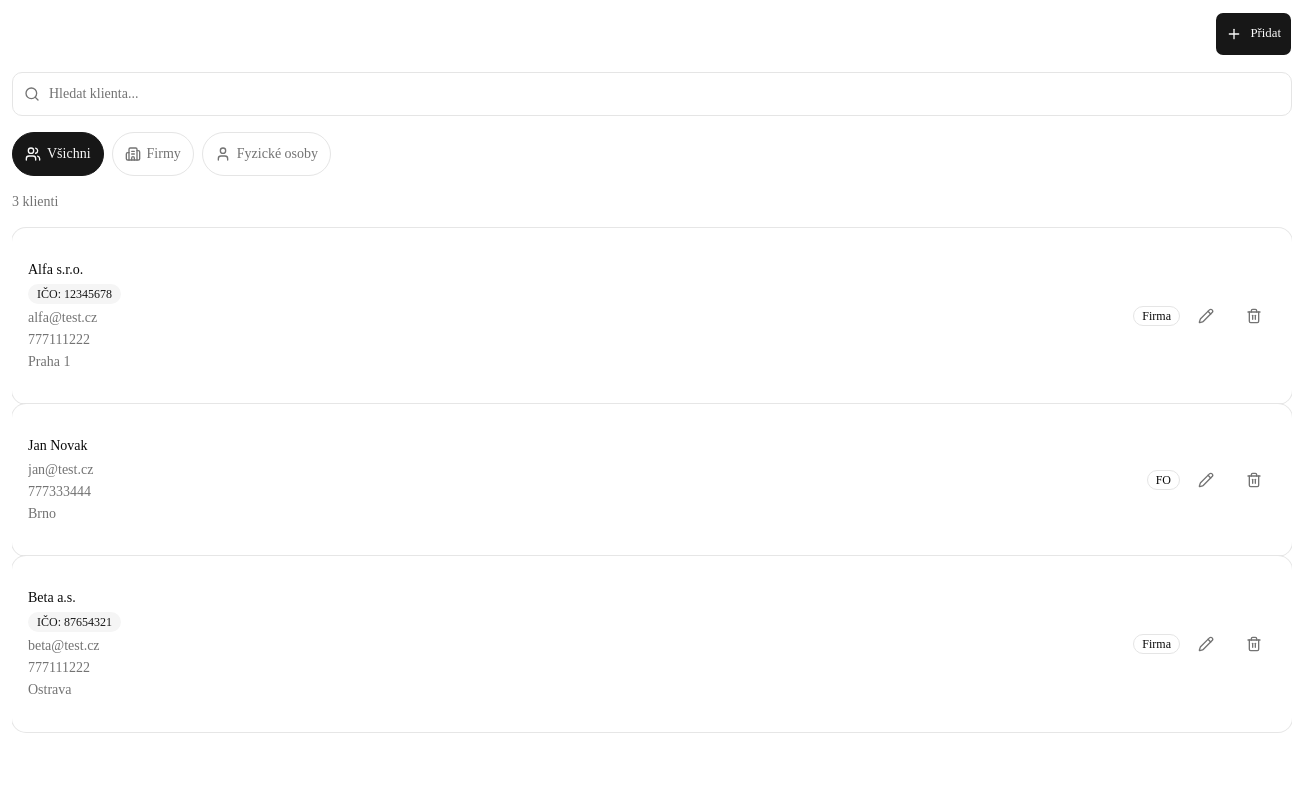
Test: KlientiList › filters by search query
The width and height of the screenshot is (1304, 812).
In the field with placeholder "Hledat klienta...": (652, 94) [12,72,1292,116], type "alfa"
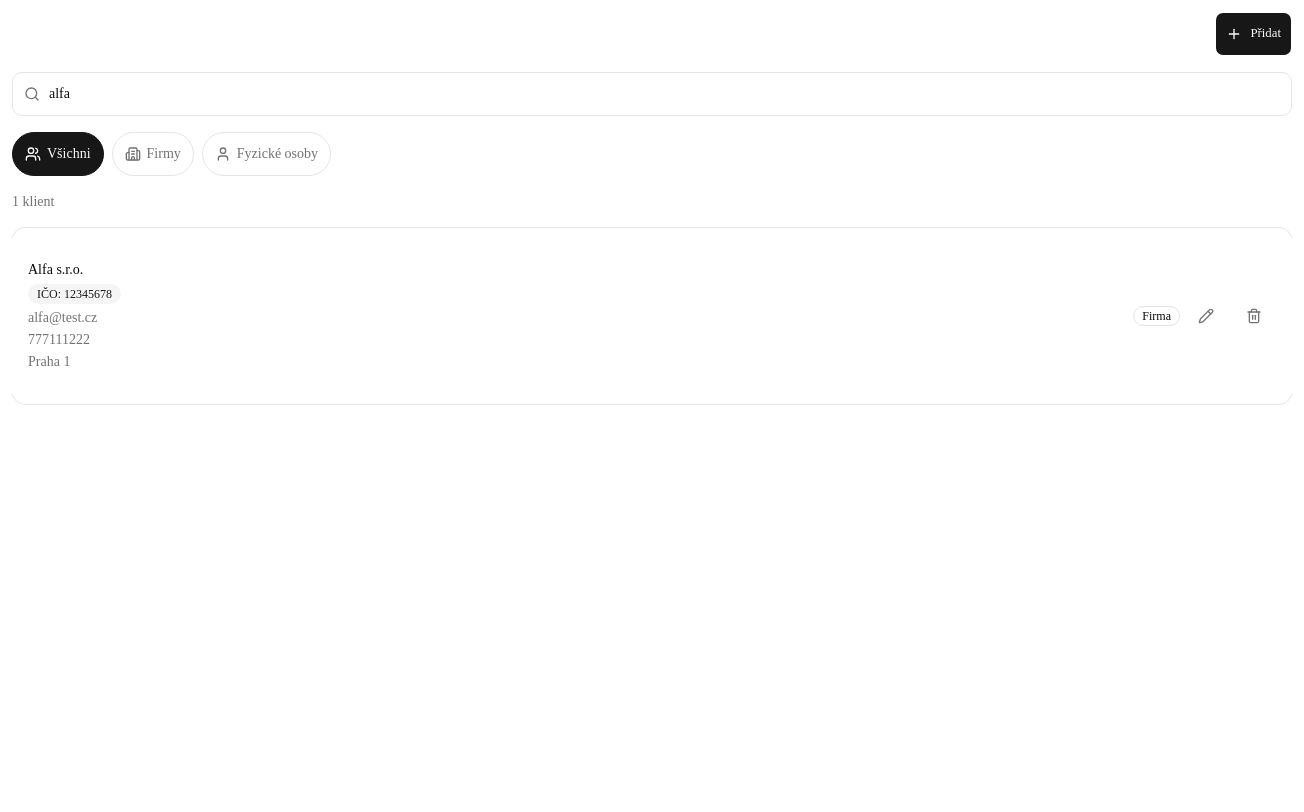
Expected: the text "Alfa s.r.o." is shown, [28,262,83,277]
Now the link "Beta a.s." is gone
Now the link "Jan Novak" is gone
